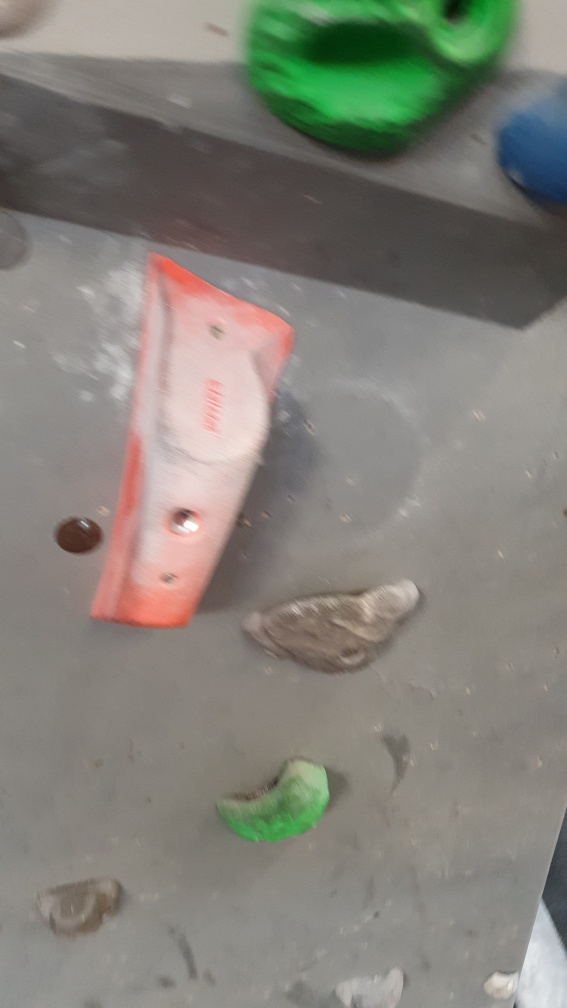Hand Start: (45, 507, 110, 557)
Jug: (238, 579, 422, 680), (215, 750, 335, 847)
Pinch: (79, 250, 298, 634)
